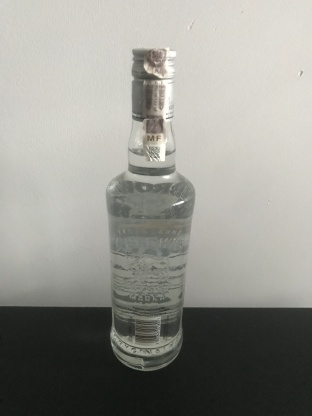nakretka: (128, 44, 178, 124)
